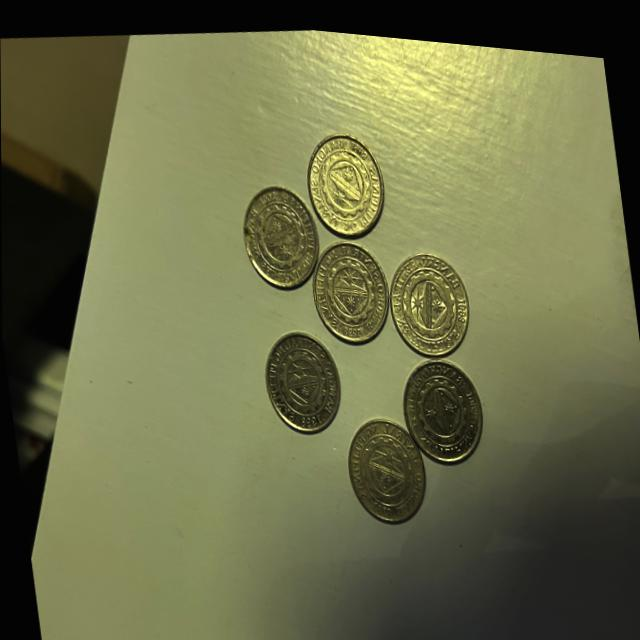1_Old_Back: (405, 355, 481, 450), (357, 416, 422, 507), (313, 132, 378, 222), (267, 331, 336, 415), (247, 185, 314, 271), (398, 249, 460, 341), (318, 248, 383, 330)
